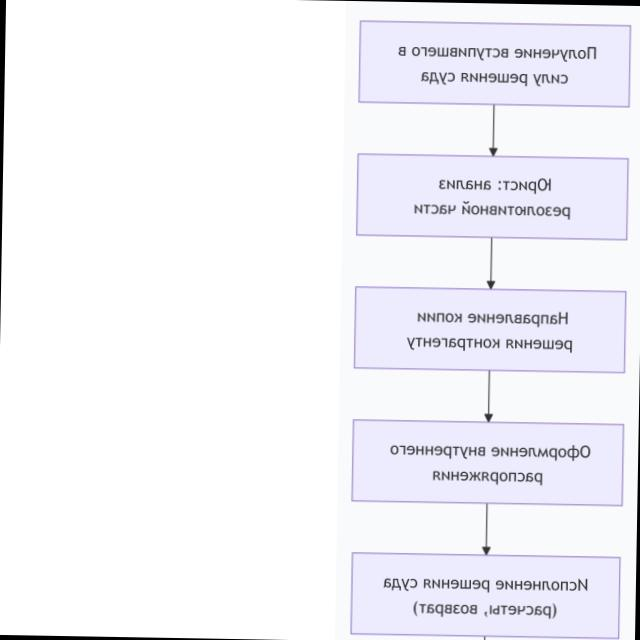arrow: (484, 238, 494, 288), (484, 371, 491, 421), (489, 105, 496, 155), (482, 504, 489, 554)
rectangle: (354, 286, 625, 373), (358, 21, 630, 107), (351, 420, 623, 506), (356, 154, 627, 240), (349, 553, 619, 639)
